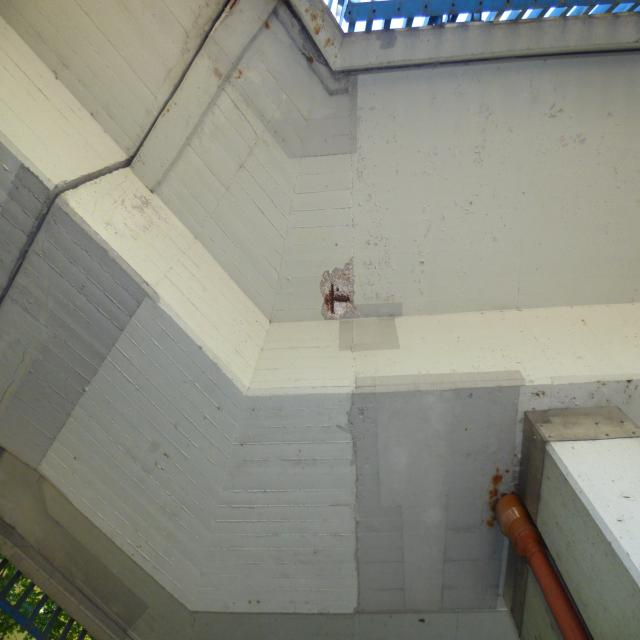corrosion: (301, 0, 345, 71), (484, 461, 506, 532), (594, 378, 640, 408), (322, 279, 354, 320), (154, 96, 181, 122), (214, 60, 246, 81), (260, 14, 276, 36), (532, 389, 546, 400), (228, 0, 237, 13), (463, 426, 470, 434)
